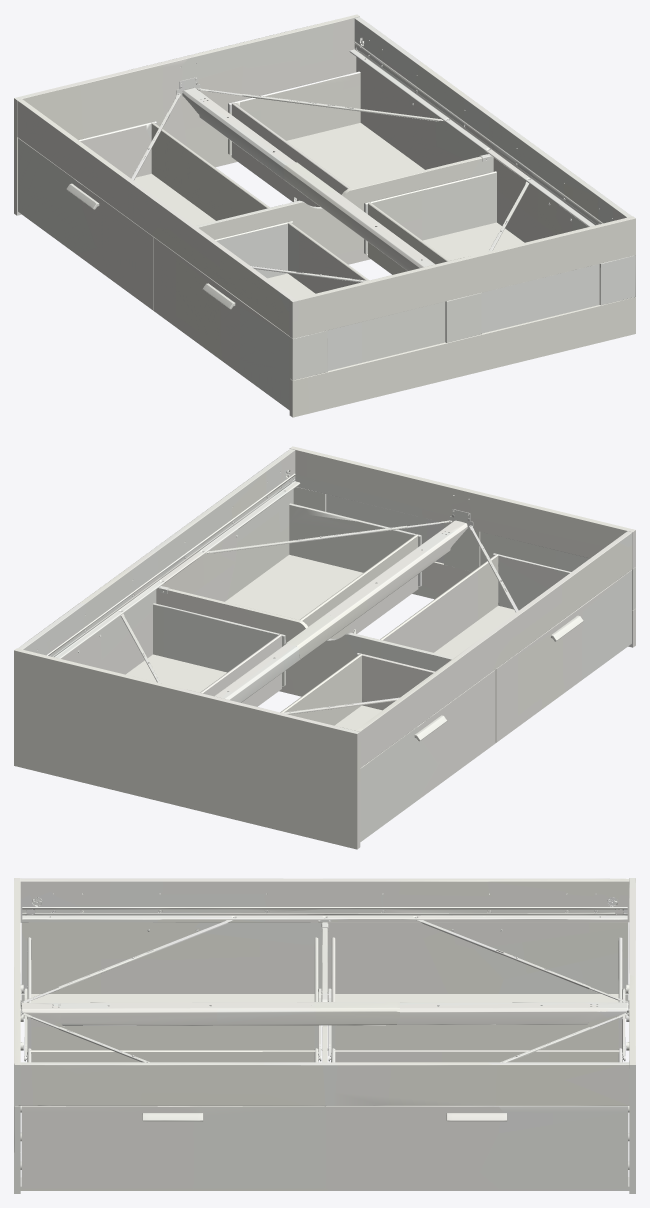
File: brimnes-estructura-de-cama-con-almacenaje-blancoluroy.glb
3 views of the same model, one above another, from view 1: azimuth 30°, elevation 25°; view 2: azimuth 150°, elevation 25°; view 3: azimuth 270°, elevation 25° (orthographic). The views are drawn at different scales.
Parts seen in each view (by area): view 1: 79902935.001; view 2: 79902935.001; view 3: 79902935.001.
Boxes of the visible parts, x1,y1,x2,y2 form: 79902935.001: [14, 14, 635, 417]; 79902935.001: [14, 446, 635, 849]; 79902935.001: [14, 878, 635, 1193].
Bounding box in the file's own units: 1.51 × 0.4697 × 2.05.
1 material, 1 textured.
